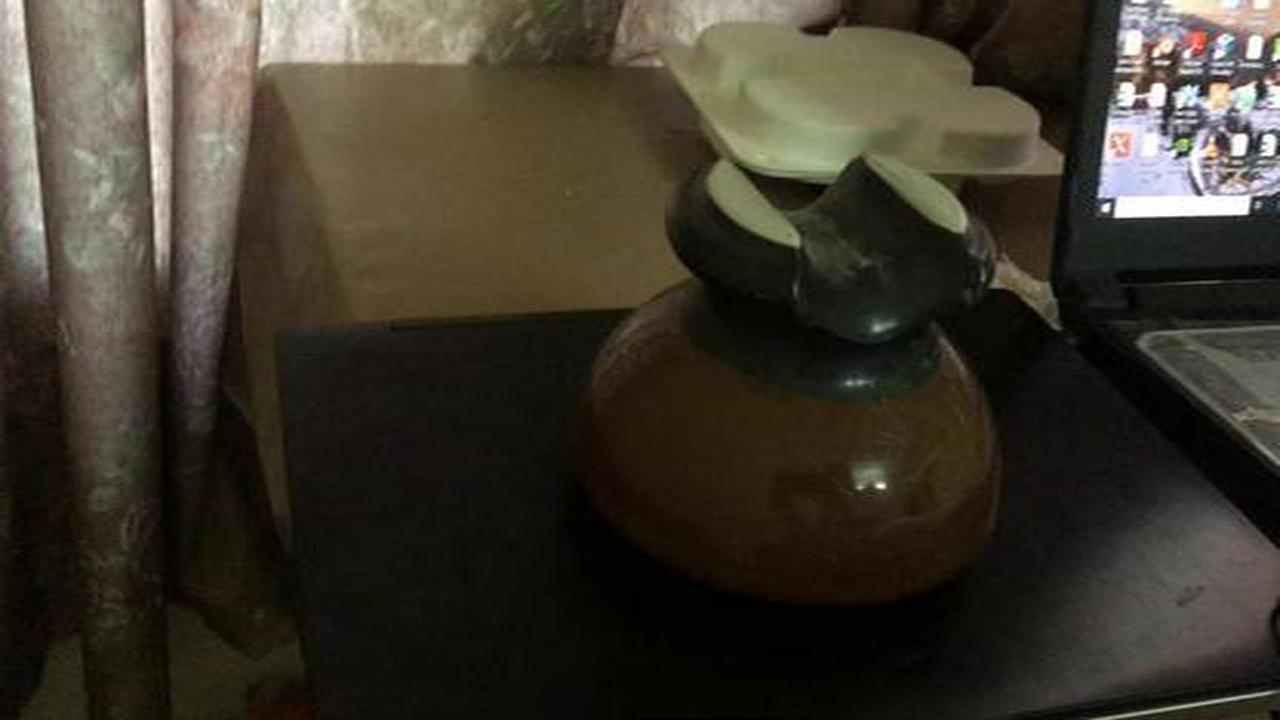insulator_pin: (542, 130, 1056, 627)
